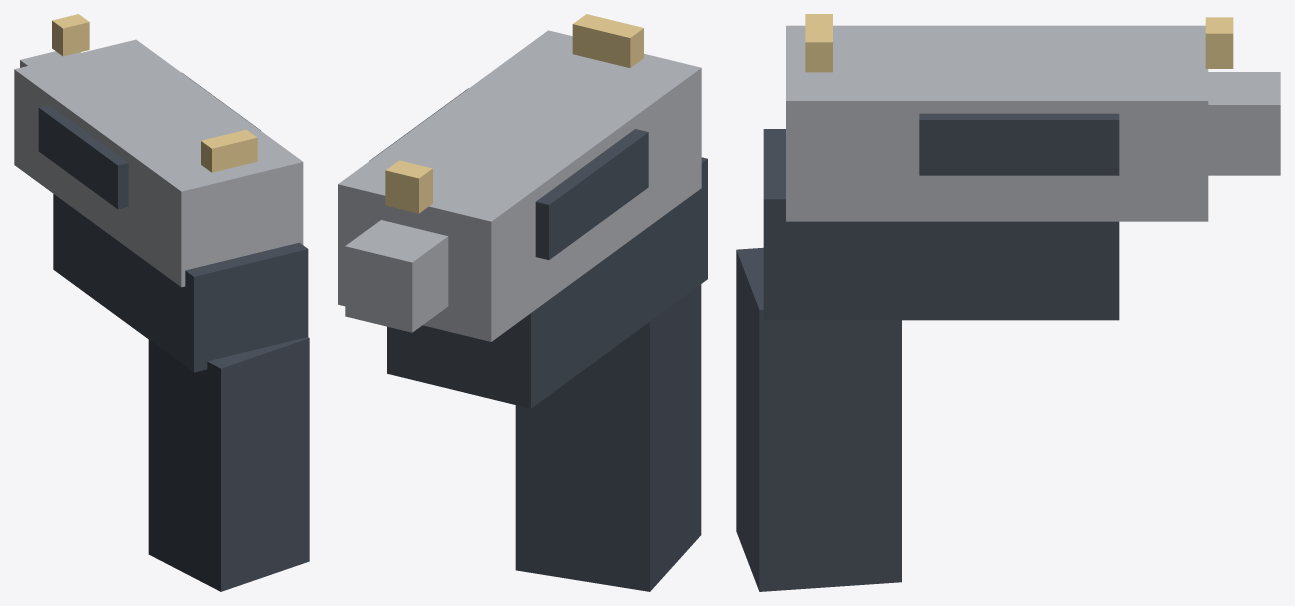
The model's file is glock.glb.
3 views of the same model, side by side, from view 1: azimuth 30°, elevation 25°; view 2: azimuth 150°, elevation 25°; view 3: azimuth 270°, elevation 25° (orthographic). The views are drawn at different scales.
Parts seen in each view (by area): view 1: slide, grip, frame, slide_cuts_l, rear_sight, front_sight; view 2: slide, grip, frame, barrel_tip, slide_cuts_l, rear_sight, front_sight; view 3: slide, grip, frame, slide_cuts_r, barrel_tip, rear_sight, front_sight.
Boxes of the visible parts, x1,y1,x2,y2 form: slide: [14, 39, 303, 287]; grip: [148, 337, 309, 591]; frame: [53, 194, 308, 372]; slide_cuts_l: [38, 105, 128, 209]; rear_sight: [201, 129, 257, 172]; front_sight: [52, 14, 89, 56]; slide: [338, 30, 701, 341]; grip: [515, 284, 701, 591]; frame: [387, 157, 707, 408]; barrel_tip: [345, 220, 448, 332]; slide_cuts_l: [535, 129, 648, 259]; rear_sight: [572, 14, 643, 67]; front_sight: [385, 160, 432, 213]; slide: [786, 25, 1208, 221]; grip: [736, 247, 901, 591]; frame: [763, 129, 1119, 320]; slide_cuts_r: [919, 113, 1119, 175]; barrel_tip: [1208, 72, 1280, 175]; rear_sight: [805, 14, 832, 72]; front_sight: [1205, 17, 1233, 68].
Size of the model in its own units: 0.188 by 0.5275 by 0.4895.
